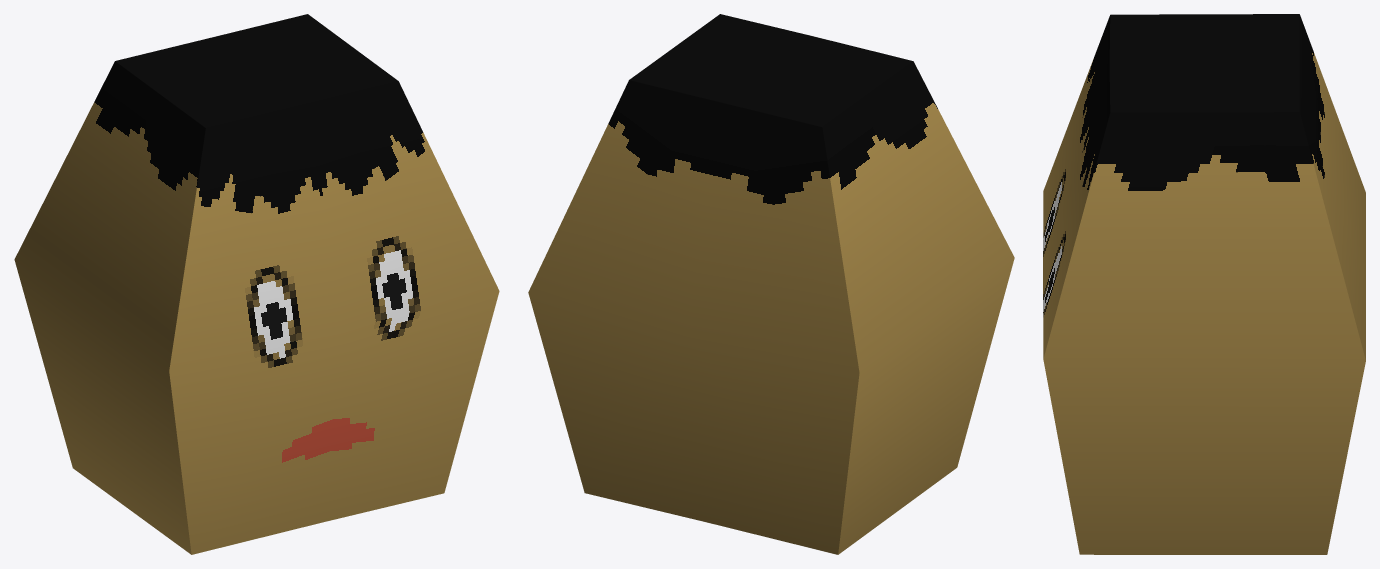
Rendered from C_GH_Head_M2.FBX.
3 views of the same model, side by side, from view 1: azimuth 30°, elevation 25°; view 2: azimuth 150°, elevation 25°; view 3: azimuth 270°, elevation 25° (orthographic). The views are drawn at different scales.
Visible parts, largest first — view 1: Box001; view 2: Box001; view 3: Box001.
Part boxes in pixels (x1=…): Box001: x1=14, y1=14, x2=499, y2=554; Box001: x1=528, y1=14, x2=1014, y2=554; Box001: x1=1043, y1=14, x2=1365, y2=554.
Bounding box in the file's own units: 23.58 × 27.94 × 19.15.
1 material, 1 textured.
